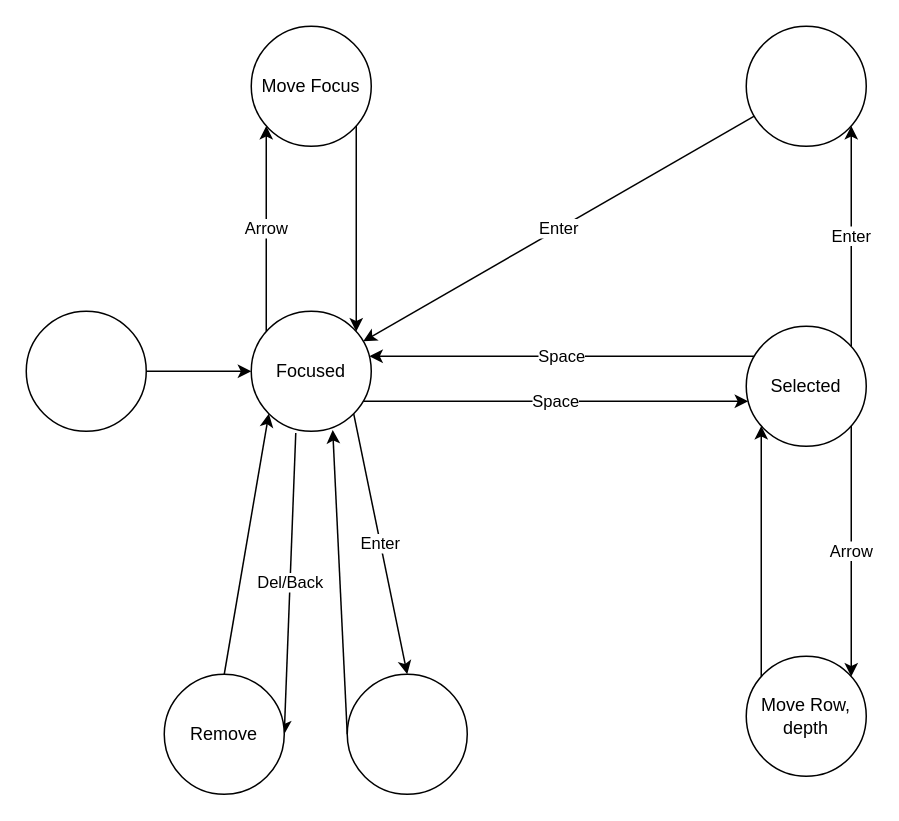
Some shapes in this 899 by 821 pixel diagram are drawn without their labels. The centre of each missing label's shape, as x and y in pixels:
Add: (x=406, y=733)
Editing: (x=805, y=85)
Start: (x=85, y=370)
